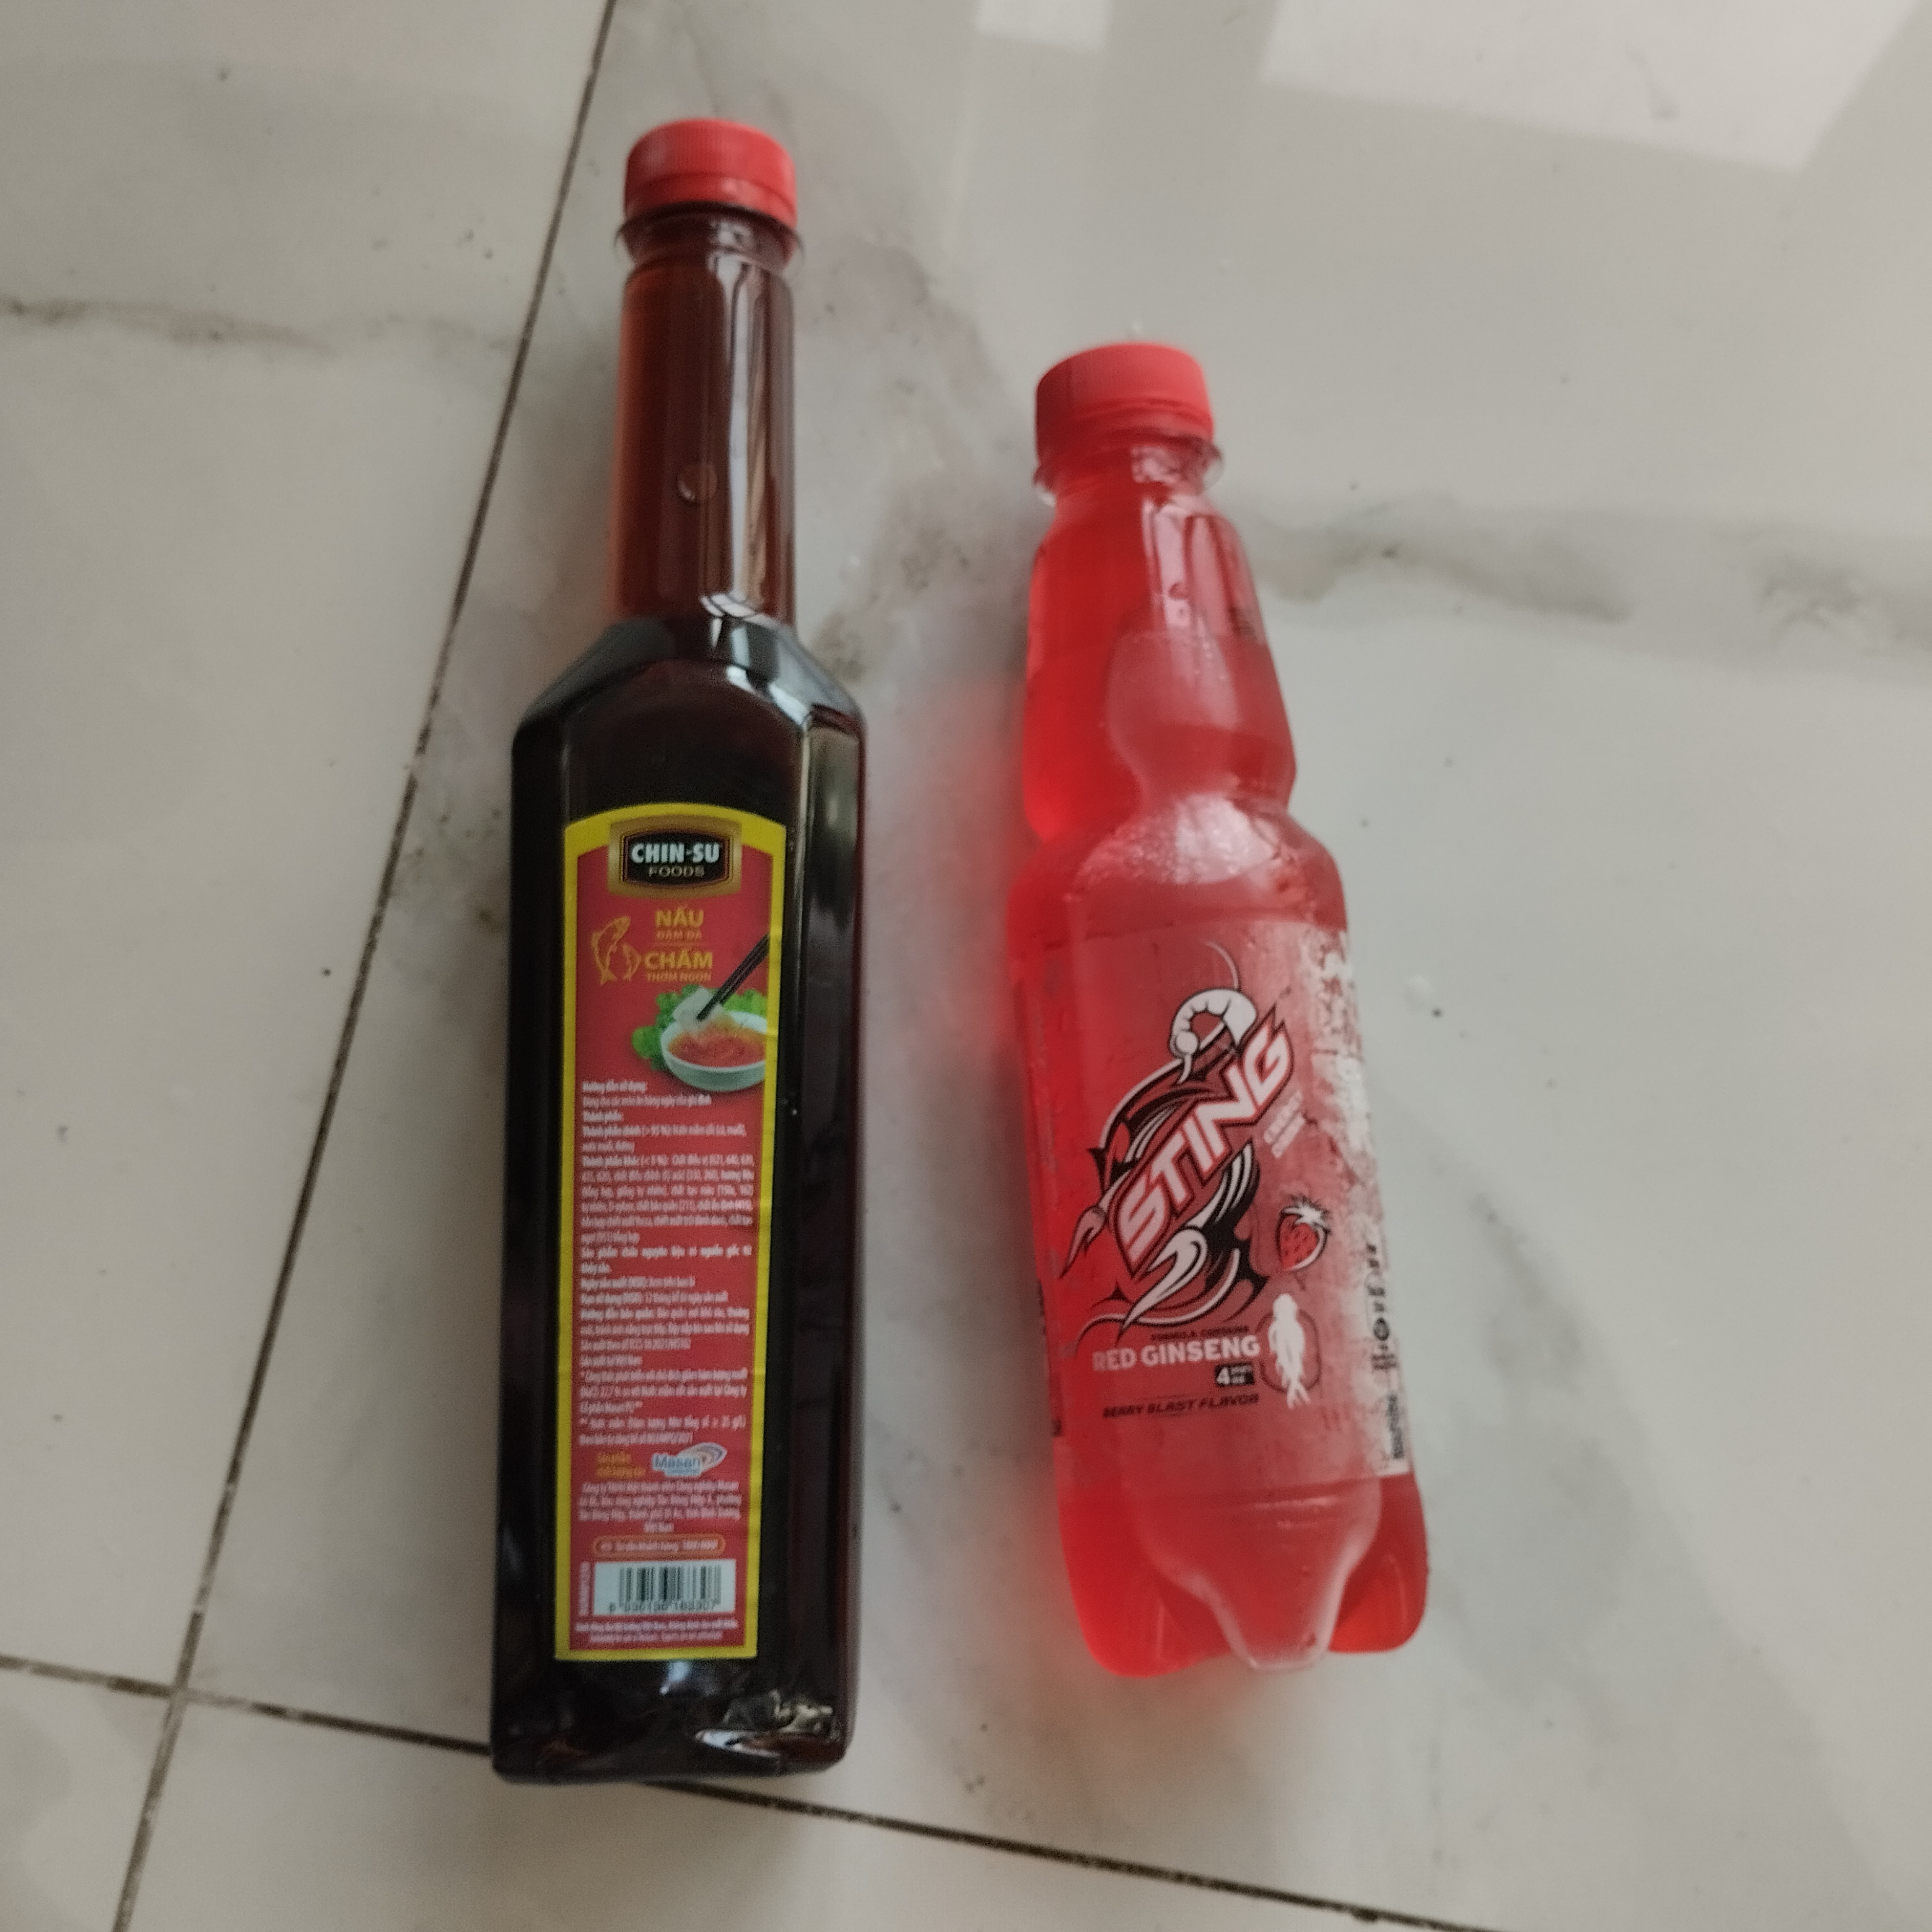Namngu: (490, 113, 862, 1787)
Sting: (1005, 338, 1437, 1684)
